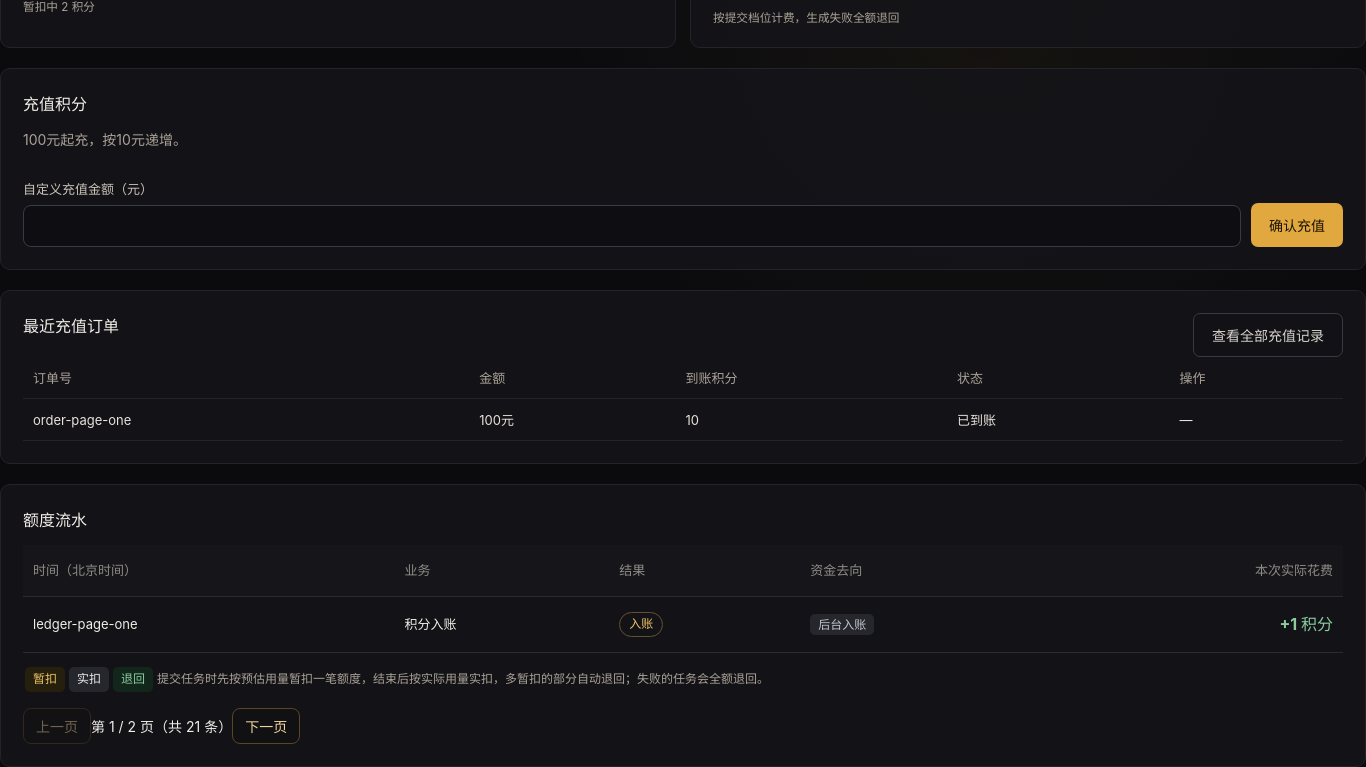
Test case: CustomerWalletPanel › keeps the last successful page and offers retry when either history request fails
The image size is (1366, 767).
(page scrolled)
Click the button "下一页".
click(266, 726)  # box [232,708,300,744]
(page scrolled)
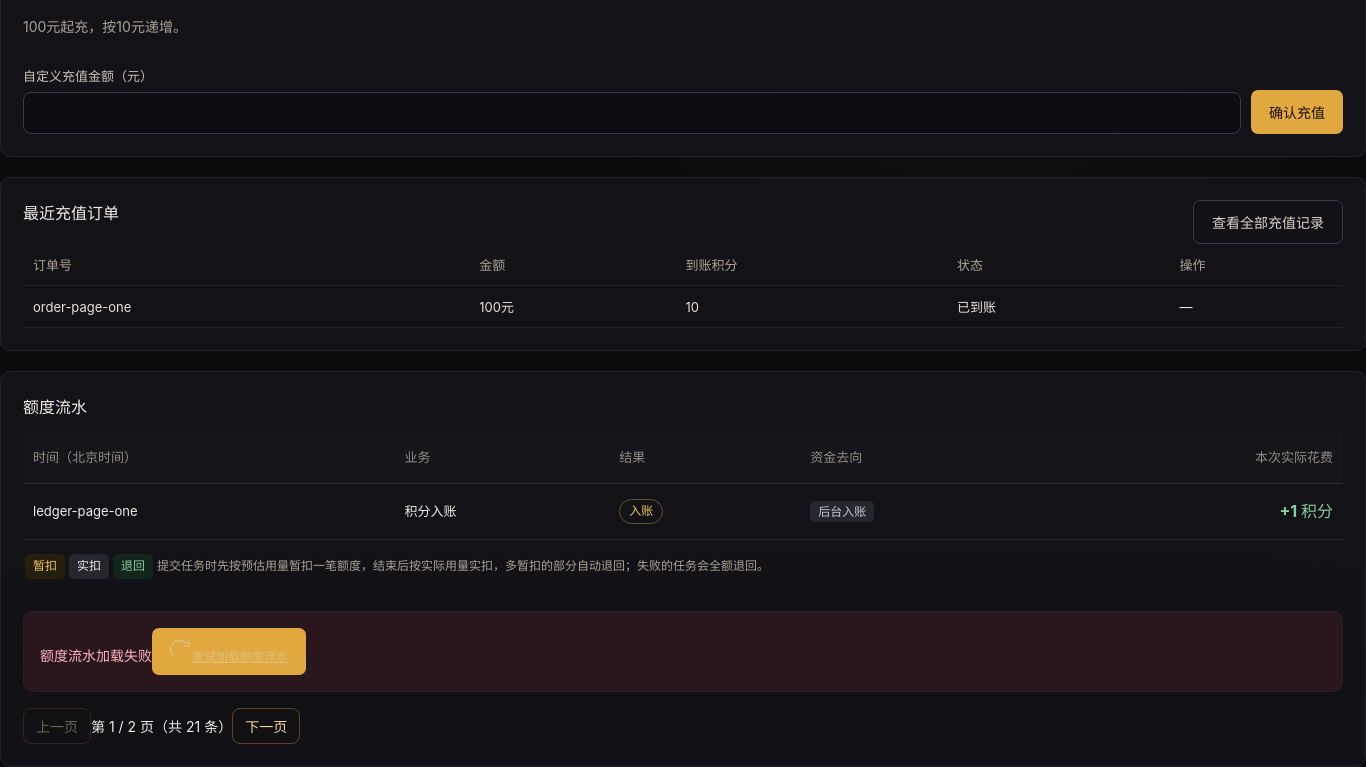
Expected: the text "ledger-page-one" is shown, [23,483,394,540]
Now the text "额度流水加载失败" is shown, box [40,647,152,664]
Click the button "重试加载额度流水".
click(229, 652)  # box [152,628,306,675]
(page scrolled)
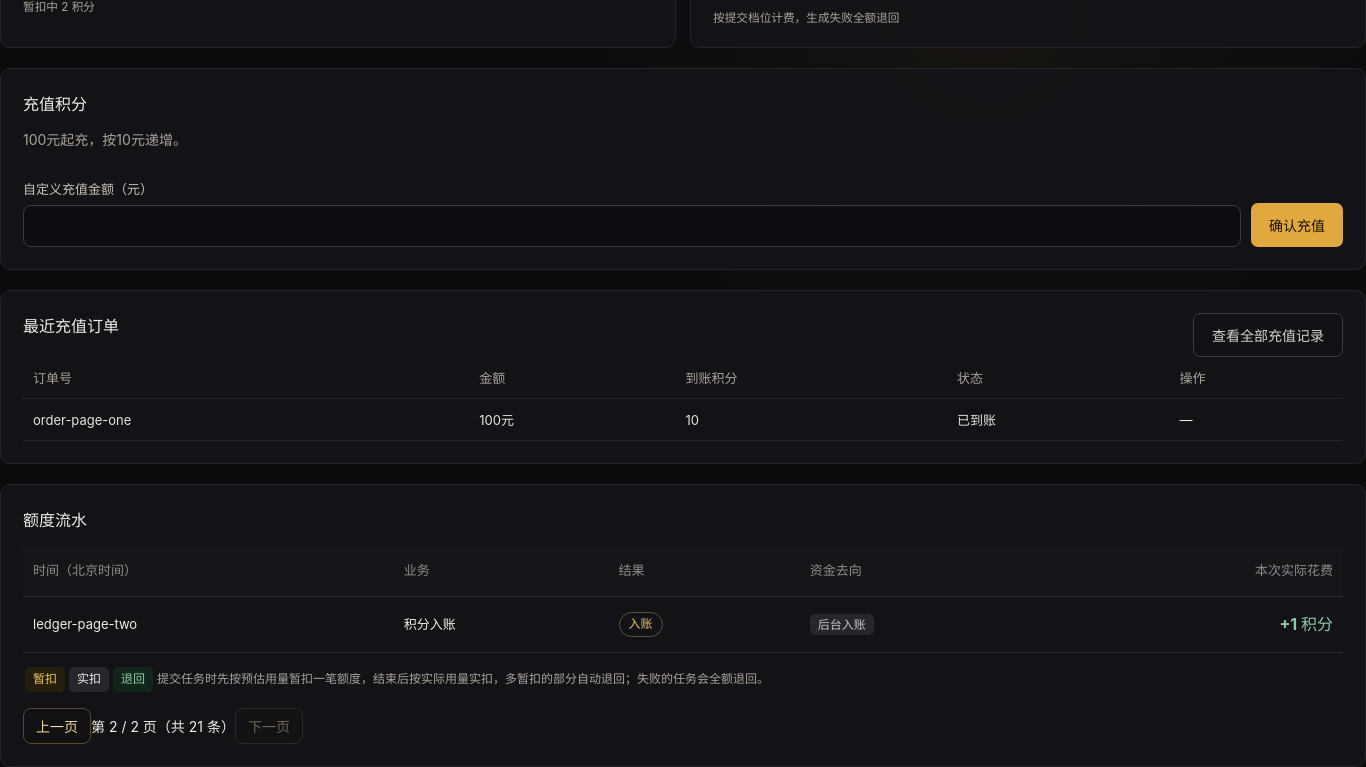
Now the text "ledger-page-two" is shown, box [23,596,394,653]
Click the button "查看全部充值记录".
click(1268, 335)  # box [1193,313,1343,357]
(page scrolled)
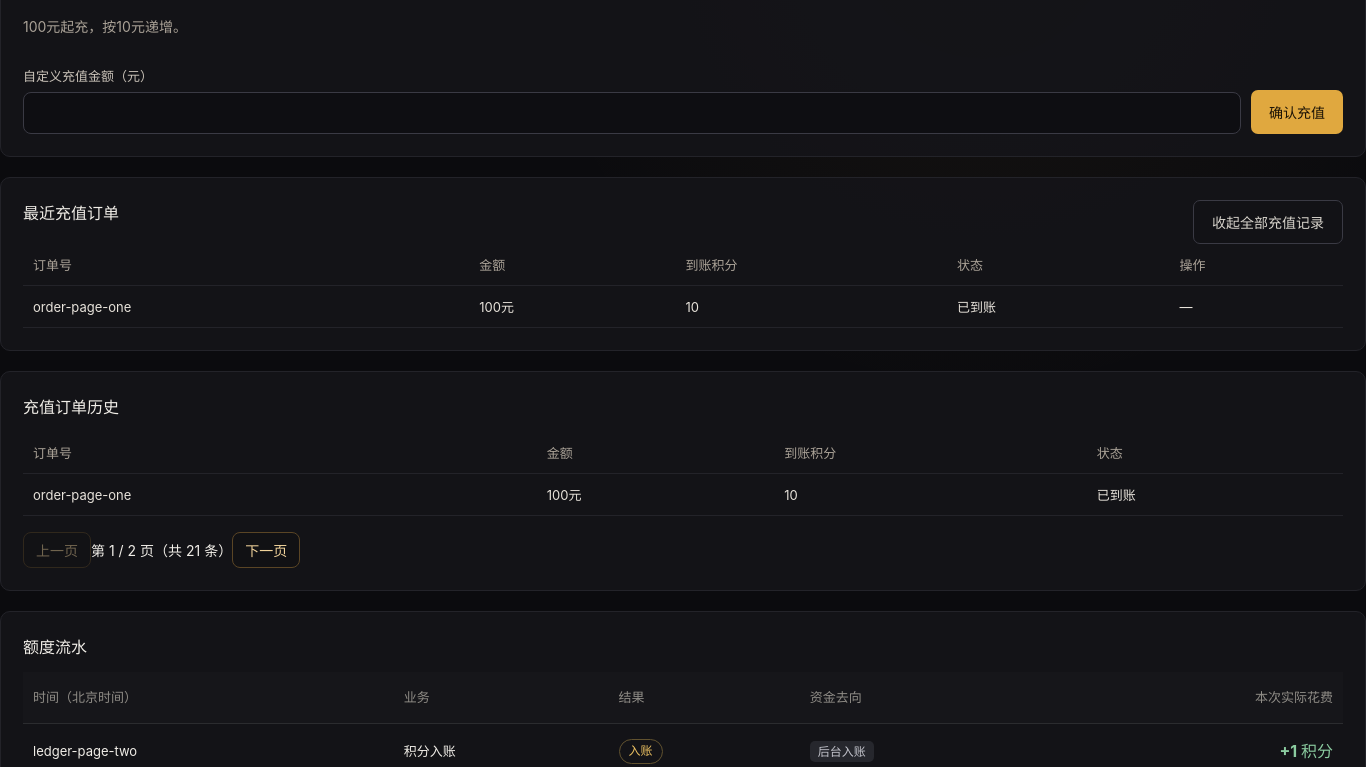
Now the text "order-page-one" below "充值订单历史" is shown, box [33,486,131,502]
Click the button "下一页".
click(266, 550)  # box [232,532,300,568]
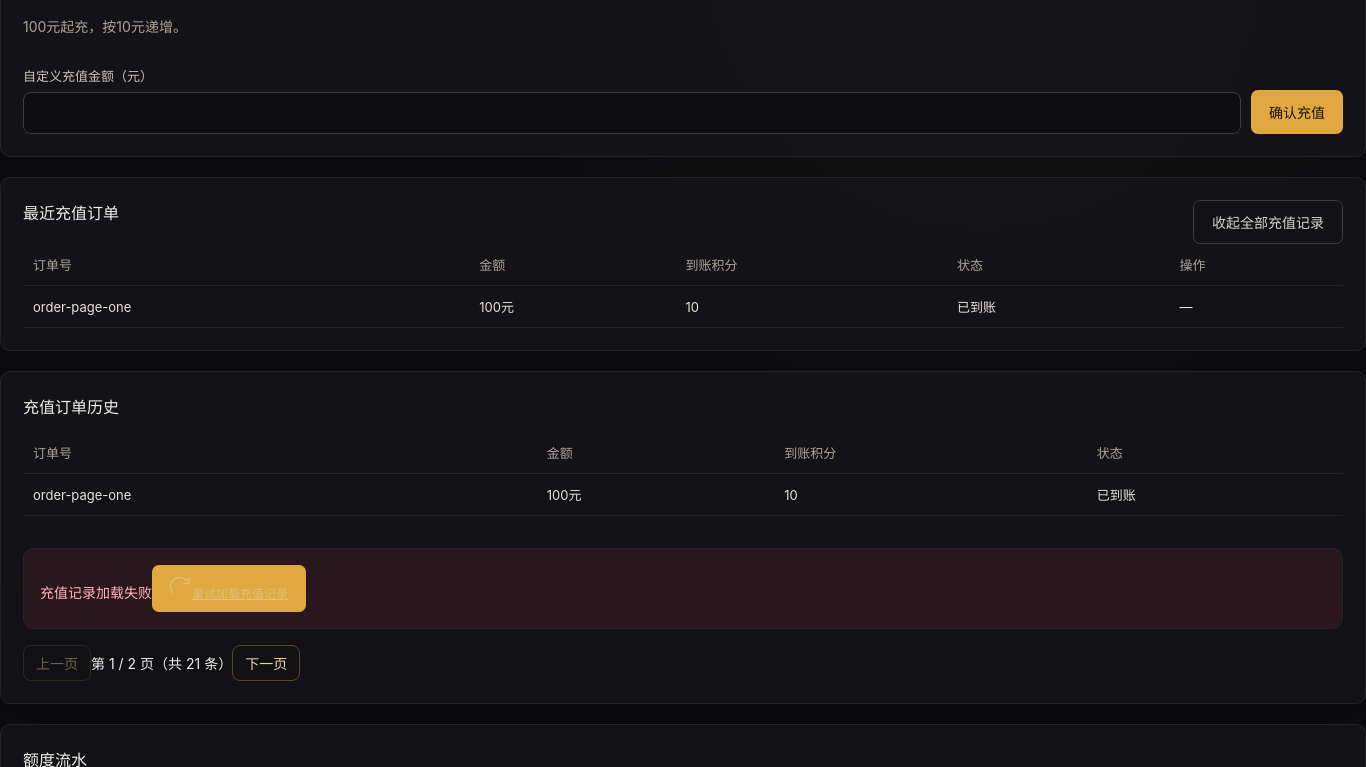
Now the text "order-page-one" below "充值订单历史" is shown, box [33,486,131,502]
Now the text "第 1 / 2 页（共 21 条）" is shown, box [91,655,232,672]
Now the text "充值记录加载失败" is shown, box [40,584,152,601]
Click the button "重试加载充值记录".
click(229, 588)  # box [152,565,306,612]
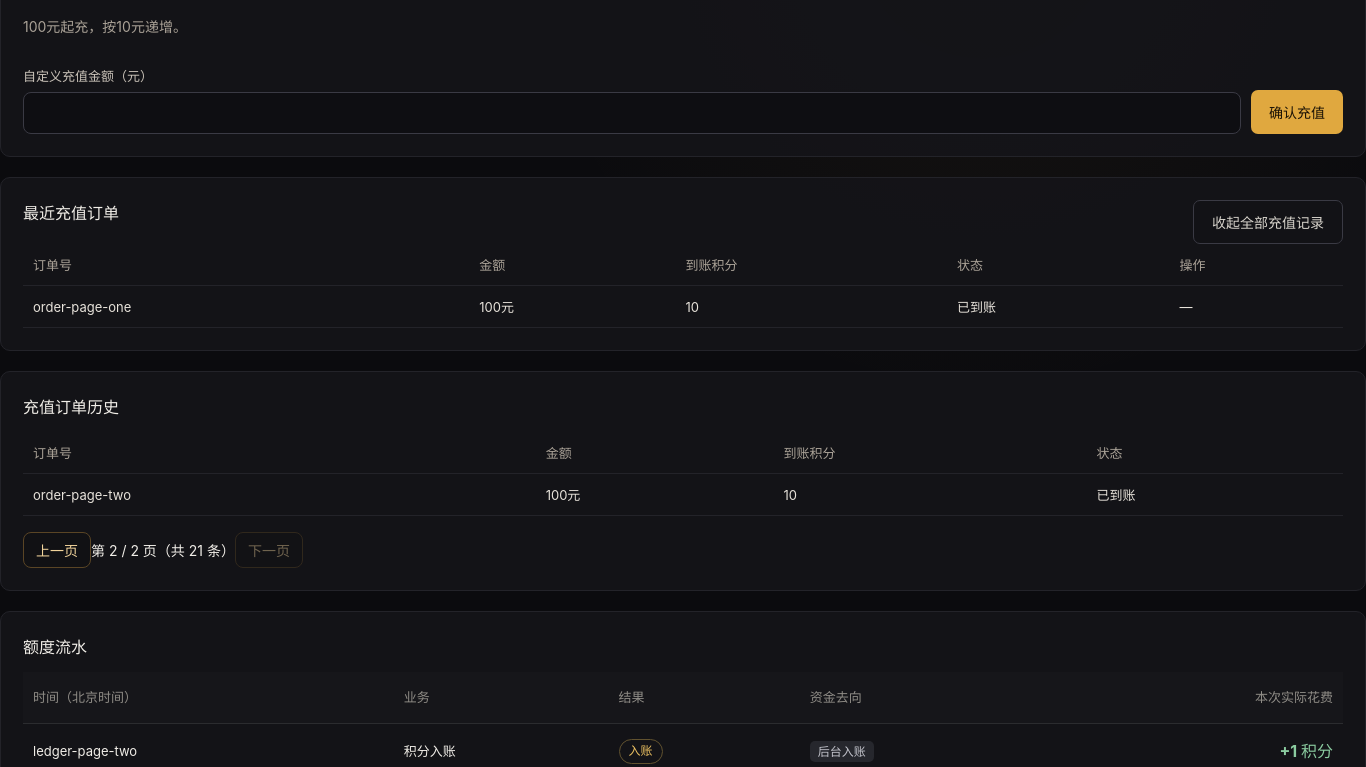
Now the text "order-page-two" is shown, box [23,474,536,516]
